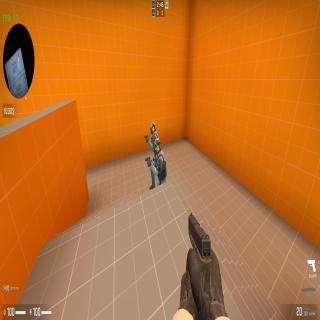CT-Body: (151, 138, 167, 187), (147, 122, 159, 154)
CT-Head: (154, 138, 160, 156), (150, 122, 156, 136)
